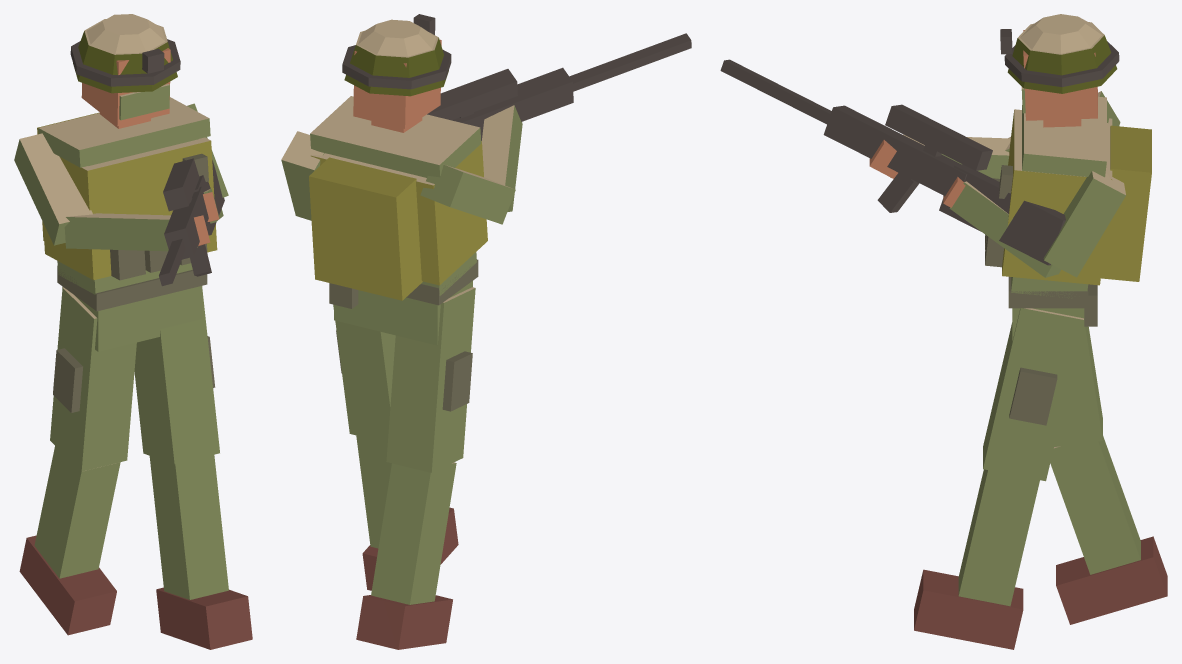
File: SM_SoldadoArmado_v4_G28_Apuntando_LOD0.fbx
3 views of the same model, side by side, from view 1: azimuth 30°, elevation 25°; view 2: azimuth 150°, elevation 25°; view 3: azimuth 270°, elevation 25° (orthographic).
Visible parts, largest first — view 1: SM_bloques.soldado_armado_v4_LOD0; view 2: SM_bloques.soldado_armado_v4_LOD0; view 3: SM_bloques.soldado_armado_v4_LOD0.
Part boxes in pixels (x1=…): SM_bloques.soldado_armado_v4_LOD0: x1=14, y1=14, x2=252, y2=649; SM_bloques.soldado_armado_v4_LOD0: x1=281, y1=14, x2=691, y2=649; SM_bloques.soldado_armado_v4_LOD0: x1=720, y1=14, x2=1167, y2=649.
Bounding box in the file's own units: 0.6939 × 1.77 × 1.18.
